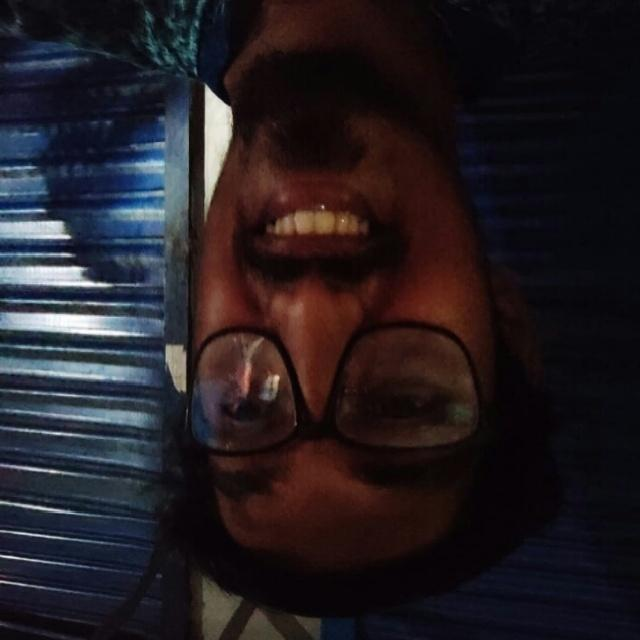Happy: (112, 62, 544, 622)
